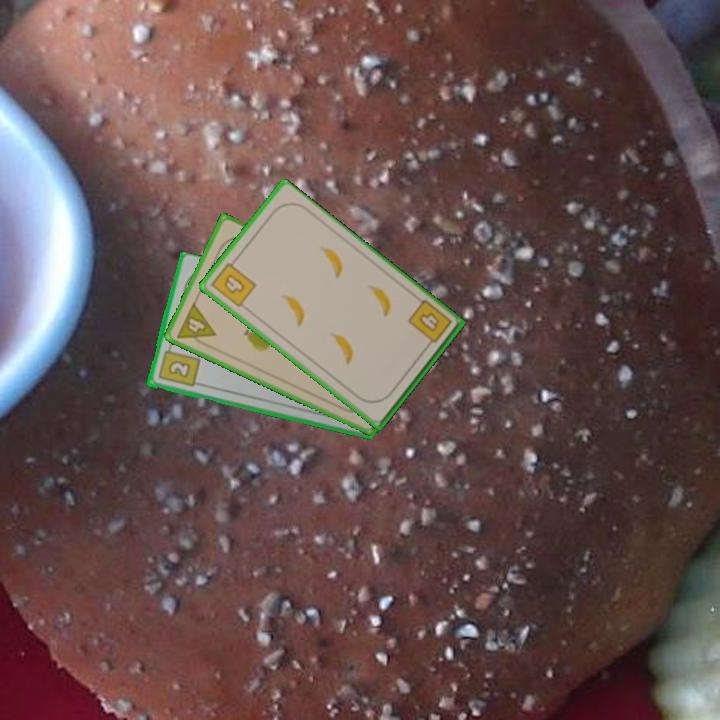2b: (155, 341, 202, 390)
4b: (207, 255, 259, 310), (404, 296, 455, 352)
4p: (173, 299, 219, 351)
